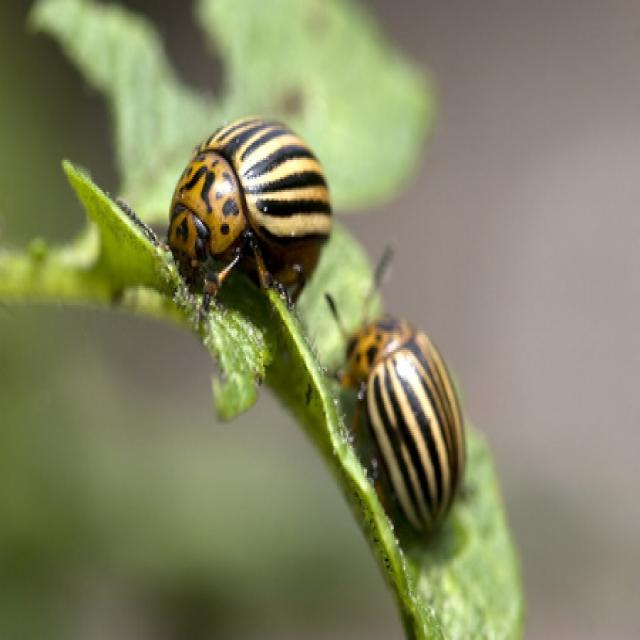ShuCaiHuaBanChong-Grown-: (164, 96, 336, 290), (346, 304, 475, 539)
